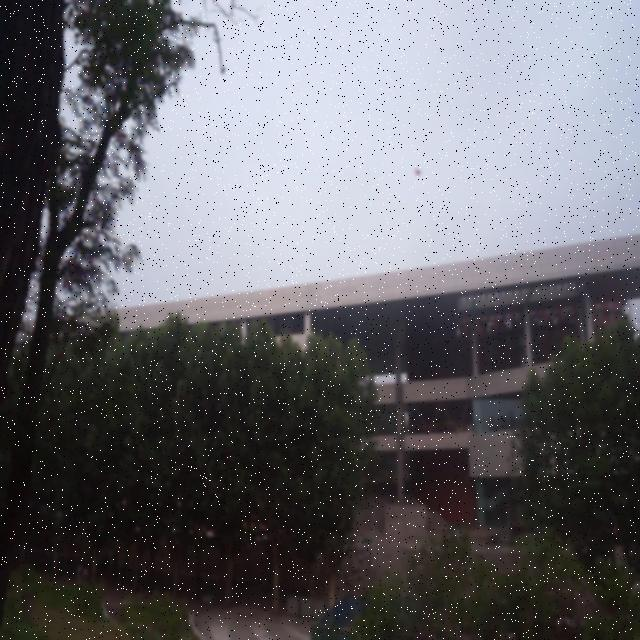UAV: (412, 167, 423, 177)
